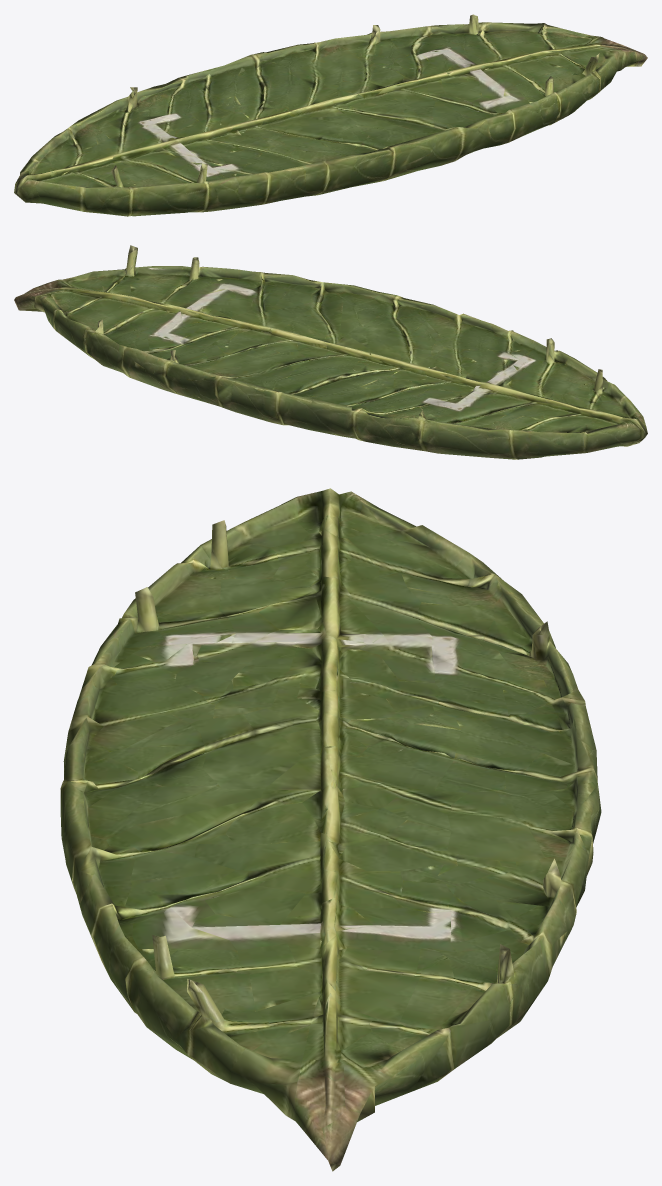
Rendered from landing-leaf-leaf.glb.
3 views of the same model, one above another, from view 1: azimuth 30°, elevation 25°; view 2: azimuth 150°, elevation 25°; view 3: azimuth 270°, elevation 25° (orthographic). The views are drawn at different scales.
Bounding box in the file's own units: 1.9 × 0.216 × 0.7032.
1 material, 1 textured.
